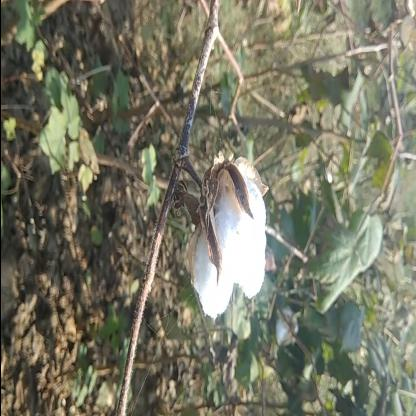cotton_ready: (162, 154, 276, 324)
